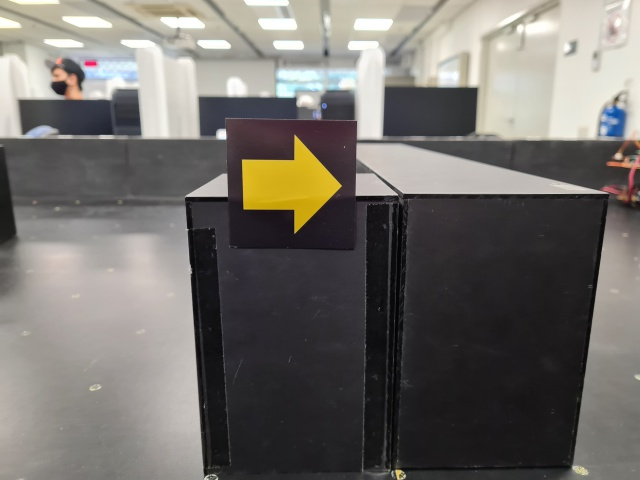right_arrow: (224, 116, 358, 251)
